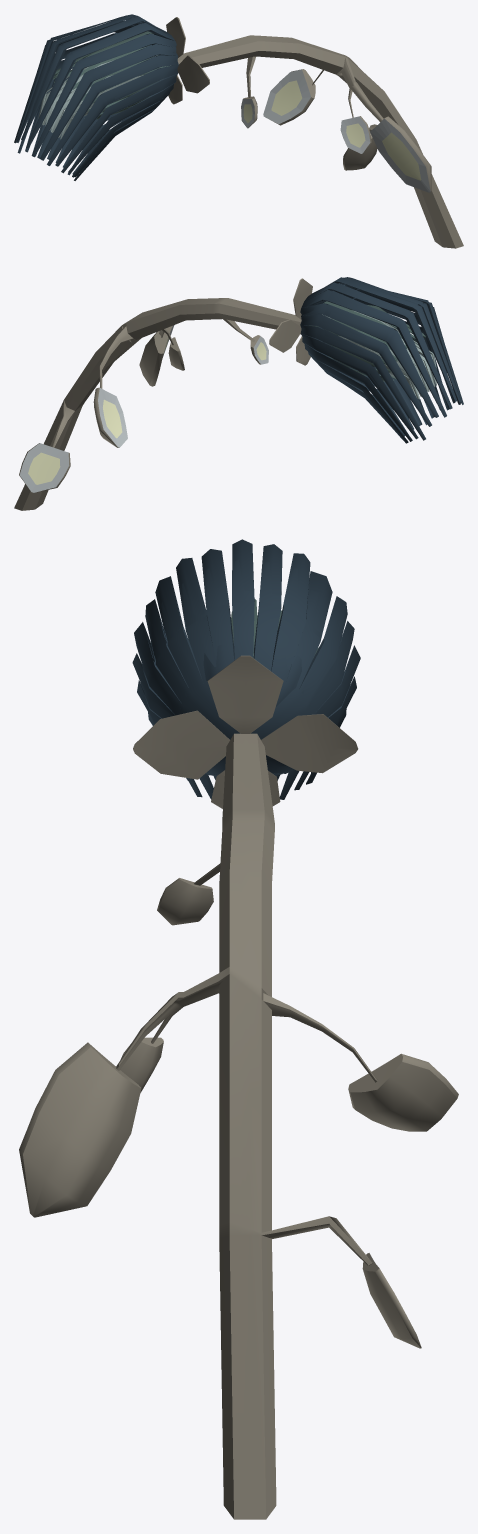
Rendered from Planta Morta_12H.fbx.
The picture shows the model from 3 angles, top to bottom: view 1: azimuth 30°, elevation 25°; view 2: azimuth 150°, elevation 25°; view 3: azimuth 270°, elevation 25°; orthographic projection. The views are drawn at different scales.
Parts seen in each view (by area): view 1: pCylinder6, pCube4, pCube5, pCube8, pCylinder5, pCube6, pCylinder1, pCube7, pCube2; view 2: pCylinder6, pCube4, pCube7, pCube8, pCube5, pCylinder5, pCylinder1, pCube2, pCube6; view 3: pCube4, pCylinder6, pCube5, pCube8, pCube2, pCube7, pCube6.
Boxes of the visible parts, <box> form: pCylinder6: <box>14,14,178,180</box>; pCube4: <box>166,17,463,248</box>; pCube5: <box>370,116,431,192</box>; pCube8: <box>263,69,315,125</box>; pCylinder5: <box>53,31,170,119</box>; pCube6: <box>340,116,371,153</box>; pCylinder1: <box>38,55,162,139</box>; pCube7: <box>343,134,377,170</box>; pCube2: <box>241,96,257,128</box>; pCylinder6: <box>300,277,463,443</box>; pCube4: <box>14,278,312,510</box>; pCube7: <box>19,443,70,492</box>; pCube8: <box>93,387,127,447</box>; pCube5: <box>139,325,174,386</box>; pCylinder5: <box>308,301,425,381</box>; pCylinder1: <box>322,310,436,399</box>; pCube2: <box>250,335,268,364</box>; pCube6: <box>168,337,184,370</box>; pCube4: <box>116,655,377,1519</box>; pCylinder6: <box>132,539,360,799</box>; pCube5: <box>19,1042,141,1217</box>; pCube8: <box>348,1053,458,1131</box>; pCube2: <box>157,878,213,925</box>; pCube7: <box>362,1253,421,1348</box>; pCube6: <box>120,1037,163,1092</box>.
Size of the model in its own units: 1259 by 831 by 547.
